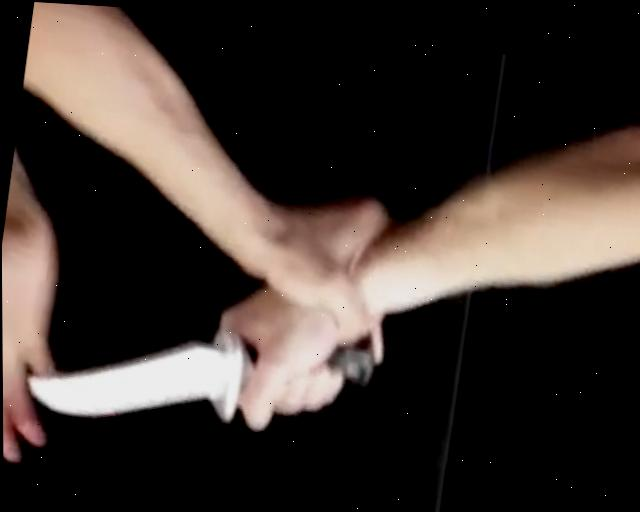long knife: (3, 278, 408, 491)
